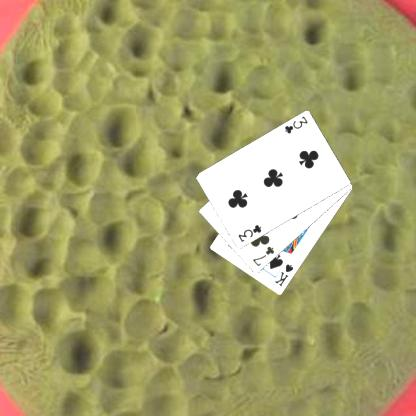3C: (282, 113, 309, 136), (235, 222, 263, 243)
7C: (250, 243, 276, 268)
KS: (272, 262, 294, 288)
